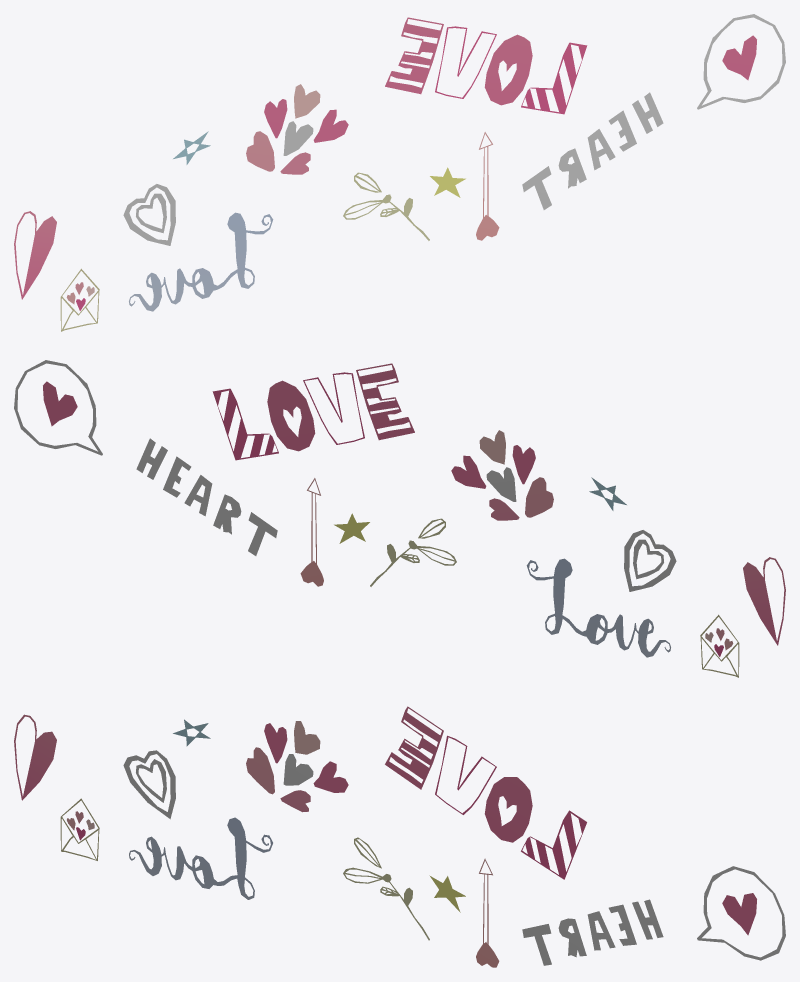
File: CRvalentines_board_001.FBX
3 views of the same model, one above another, from view 1: azimuth 30°, elevation 25°; view 2: azimuth 150°, elevation 25°; view 3: azimuth 330°, elevation 25° (orthographic).
Parts seen in each view (by area): view 1: Line014; view 2: Line014; view 3: Line014.
Boxes of the visible parts, x1,y1,x2,y2 form: Line014: [14, 14, 785, 331]; Line014: [14, 360, 785, 677]; Line014: [14, 706, 785, 967].
Size of the model in its own units: 355 by 106 by 3.65e-05.
1 material, 1 textured.
